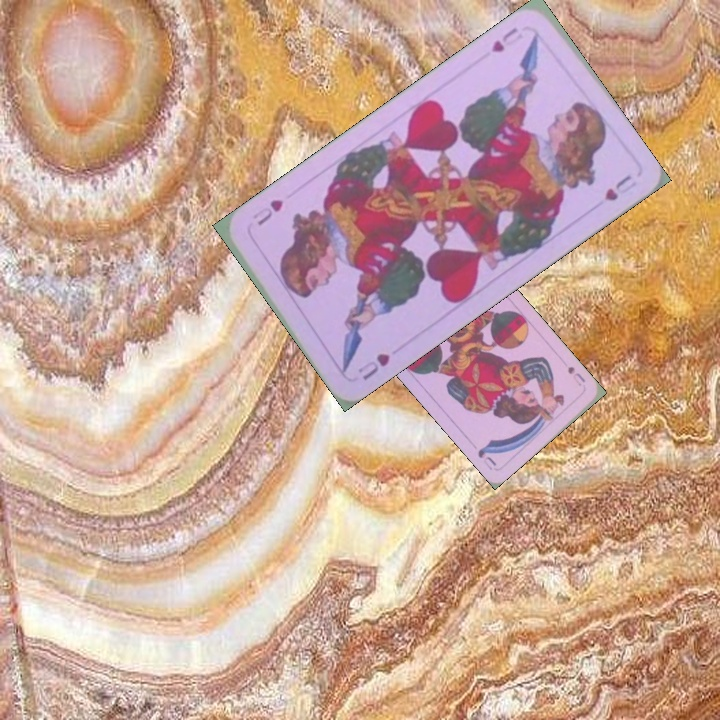HU: (354, 349, 393, 383), (487, 23, 520, 56)
SU: (563, 362, 588, 389)
